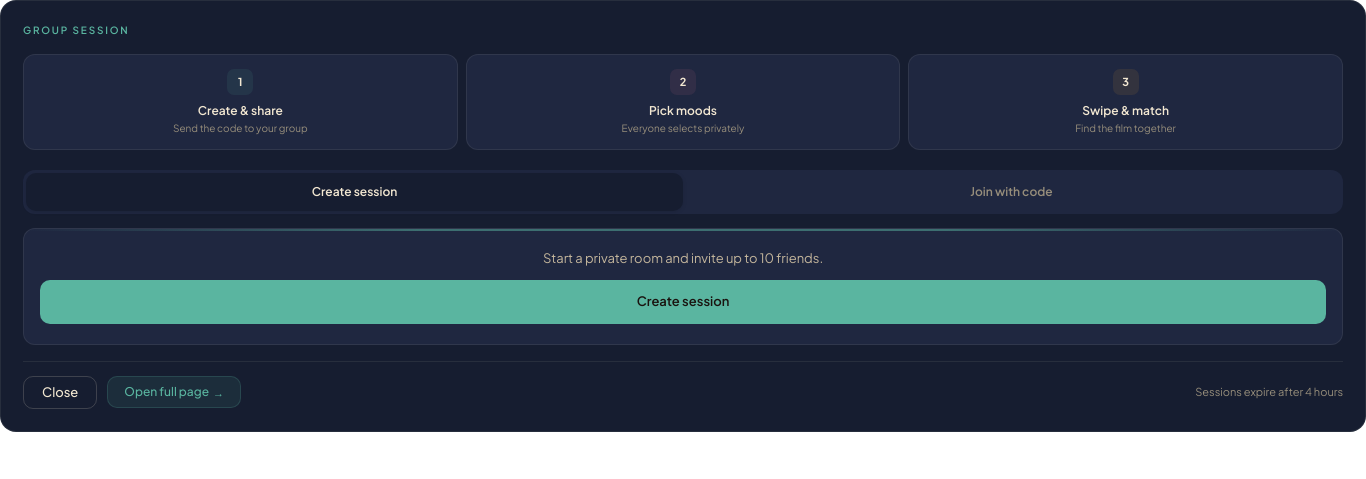
it: ExplorePanel › errors › announces a failed create
# The tab, then the button under it.
Click the 2nd button "Create session".
click(683, 302)  # box [40,280,1326,324]
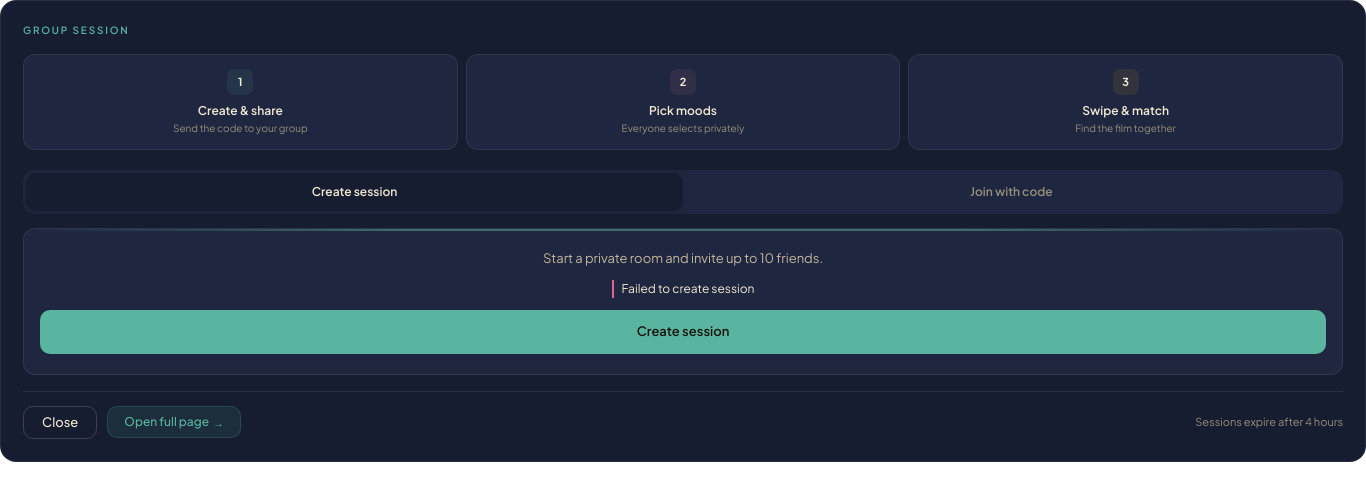
Check: the message reads "Failed to create session", box [622,281,754,296]
